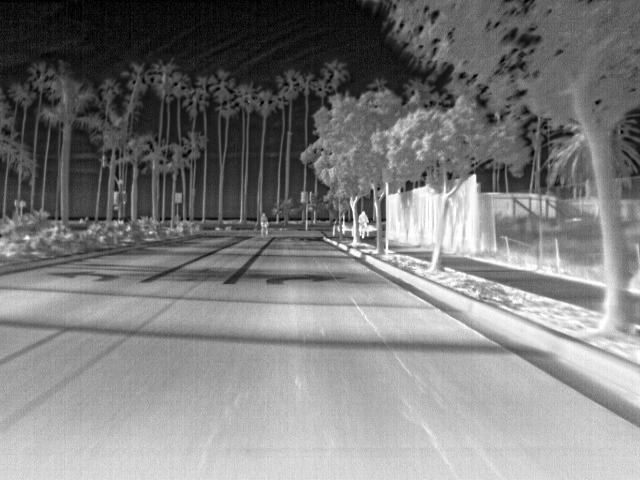person: (356, 209, 369, 227), (258, 212, 267, 224)
